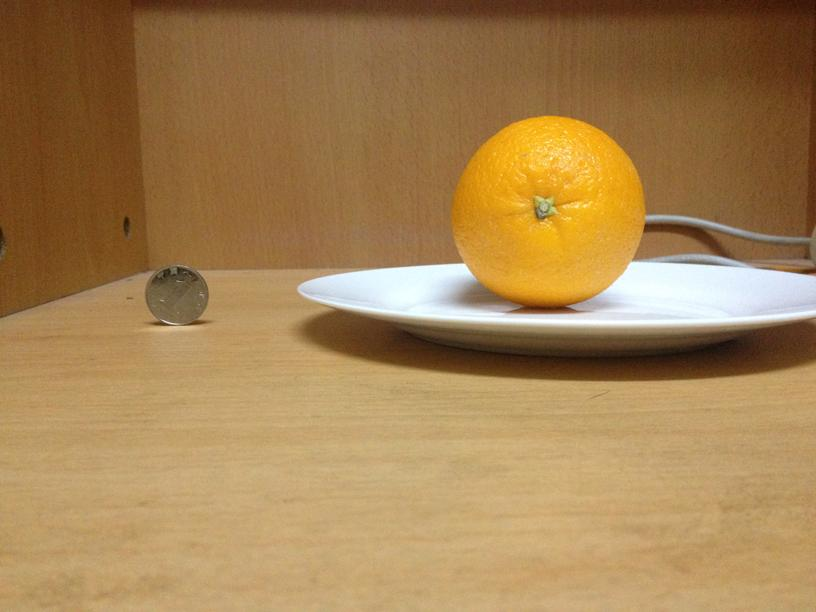coin: (142, 263, 210, 327)
orange: (448, 117, 645, 305)
